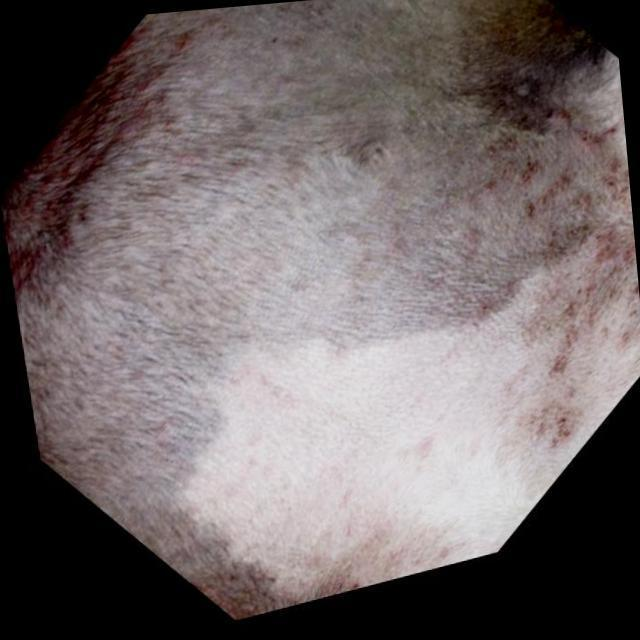allergic dermatitis: (467, 100, 638, 348)
